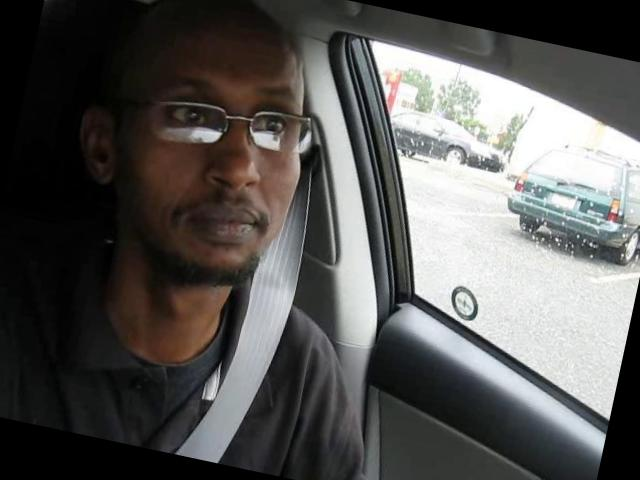eye_open: (152, 88, 228, 146), (247, 100, 295, 146)
face: (108, 28, 335, 304)
